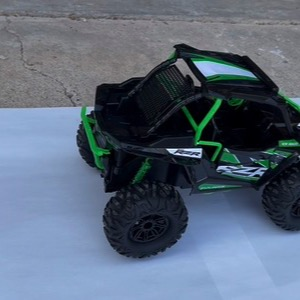polaris: (76, 42, 300, 259)
